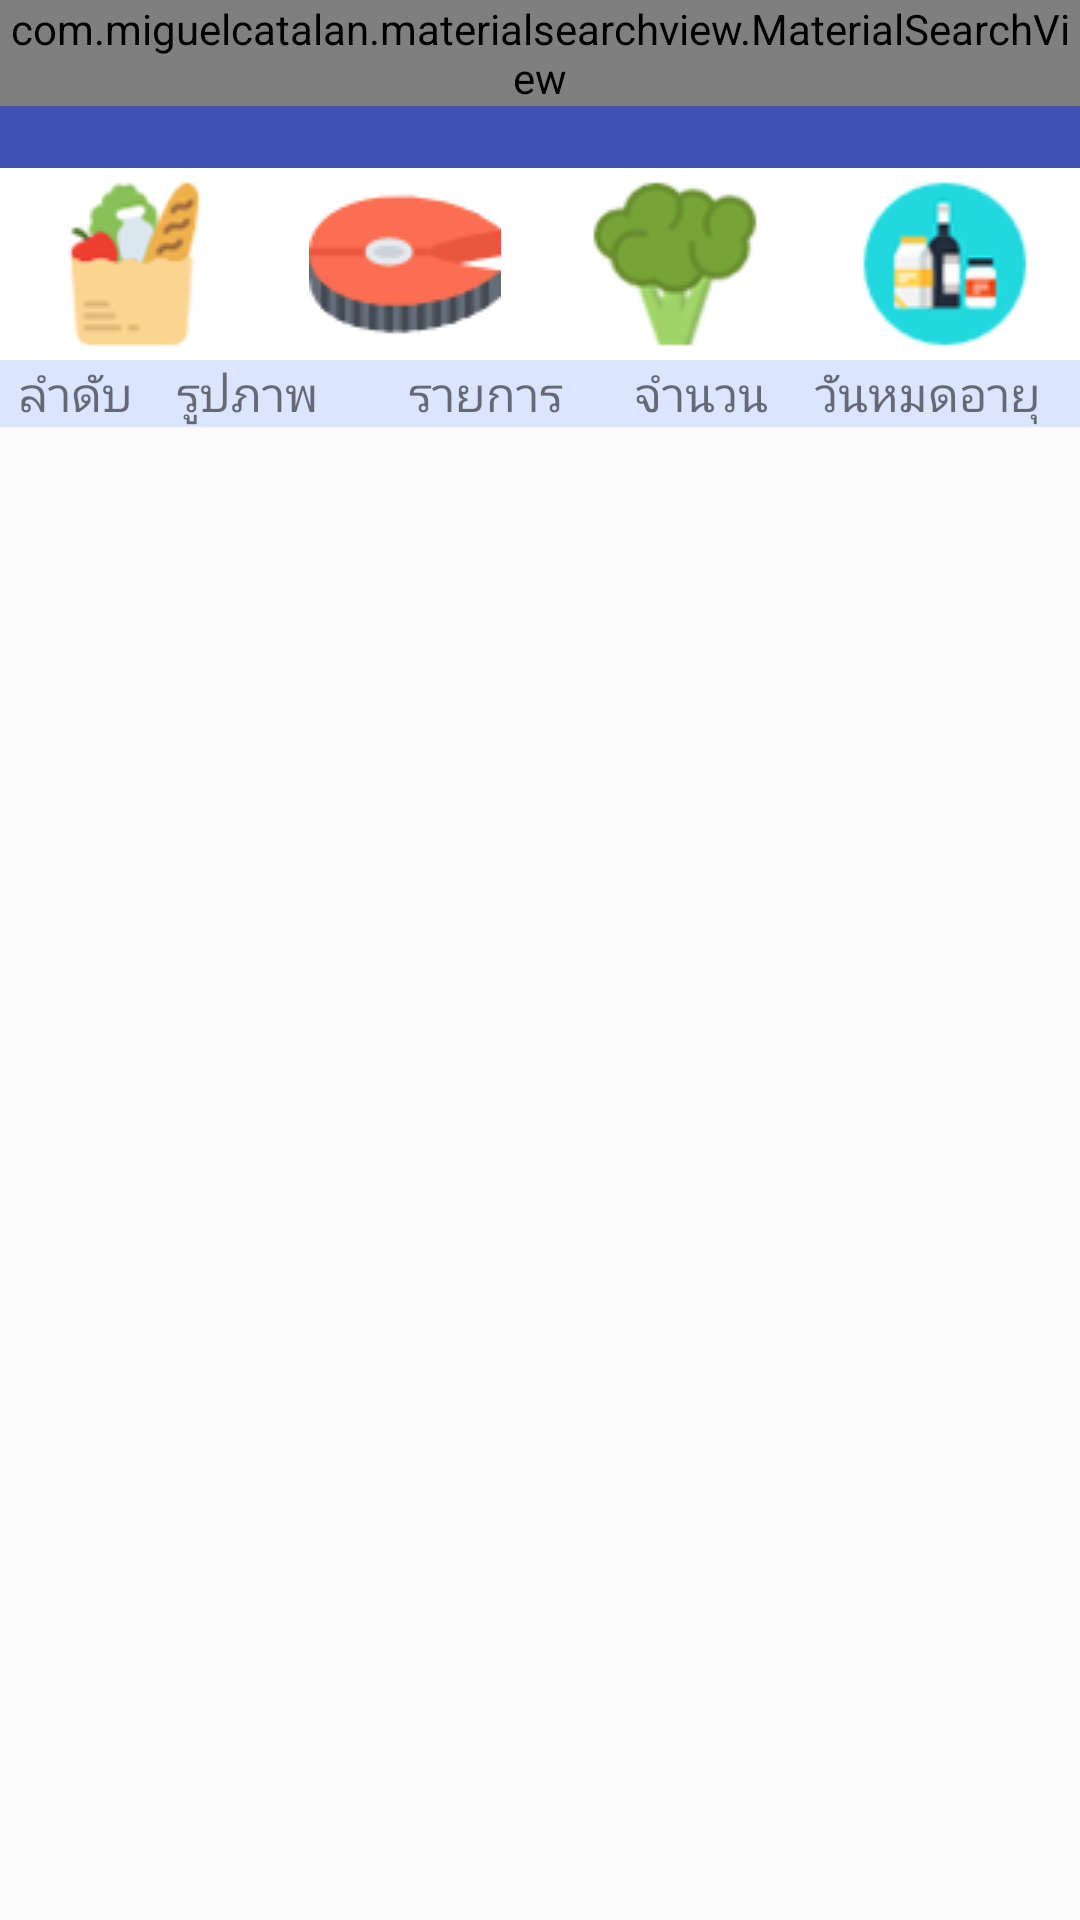

Point at icon controls on the screen. Image size 1080 x 1920, points as [x,y].
broccoli: [675,264]
groceries: [135,264]
